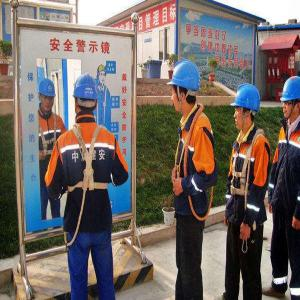blue: (171, 60, 202, 116), (233, 83, 263, 131), (74, 74, 100, 119), (282, 76, 300, 125), (39, 78, 57, 114)
